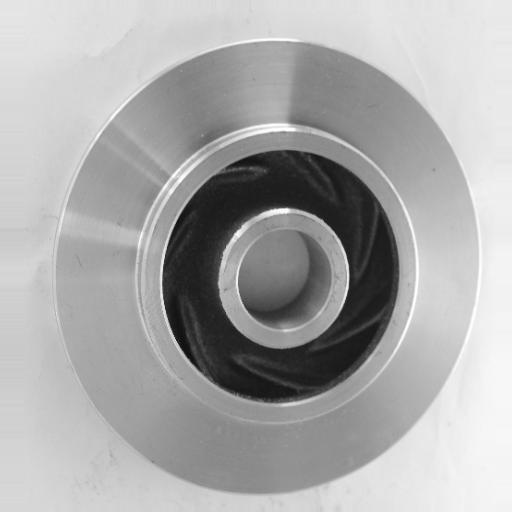polished_casting: (53, 39, 484, 495)
